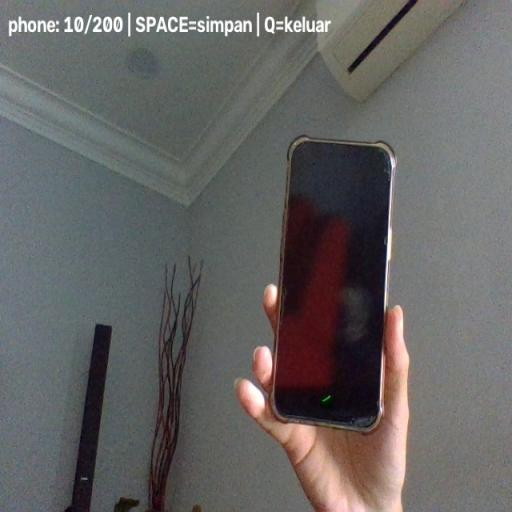Phone: (270, 134, 396, 436)
